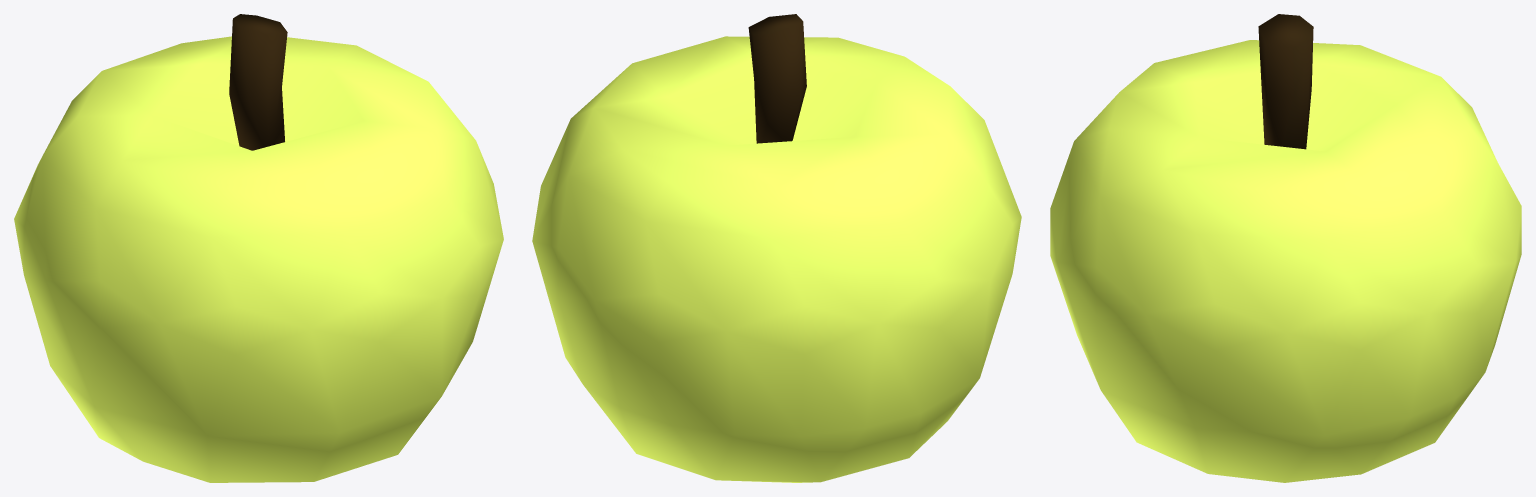
3 renders of one model, left to right at view 1: azimuth 30°, elevation 25°; view 2: azimuth 150°, elevation 25°; view 3: azimuth 270°, elevation 25°, orthographic. The views are drawn at different scales.
Visible parts, largest first — view 1: AppleGreen2; view 2: AppleGreen2; view 3: AppleGreen2.
Part boxes in pixels (x1,y1,x2,y2): AppleGreen2: [14, 14, 503, 482]; AppleGreen2: [532, 14, 1021, 482]; AppleGreen2: [1050, 14, 1521, 482].
Bounding box in the file's own units: 0.1619 × 0.1493 × 0.1583.
1 material, 1 textured.
